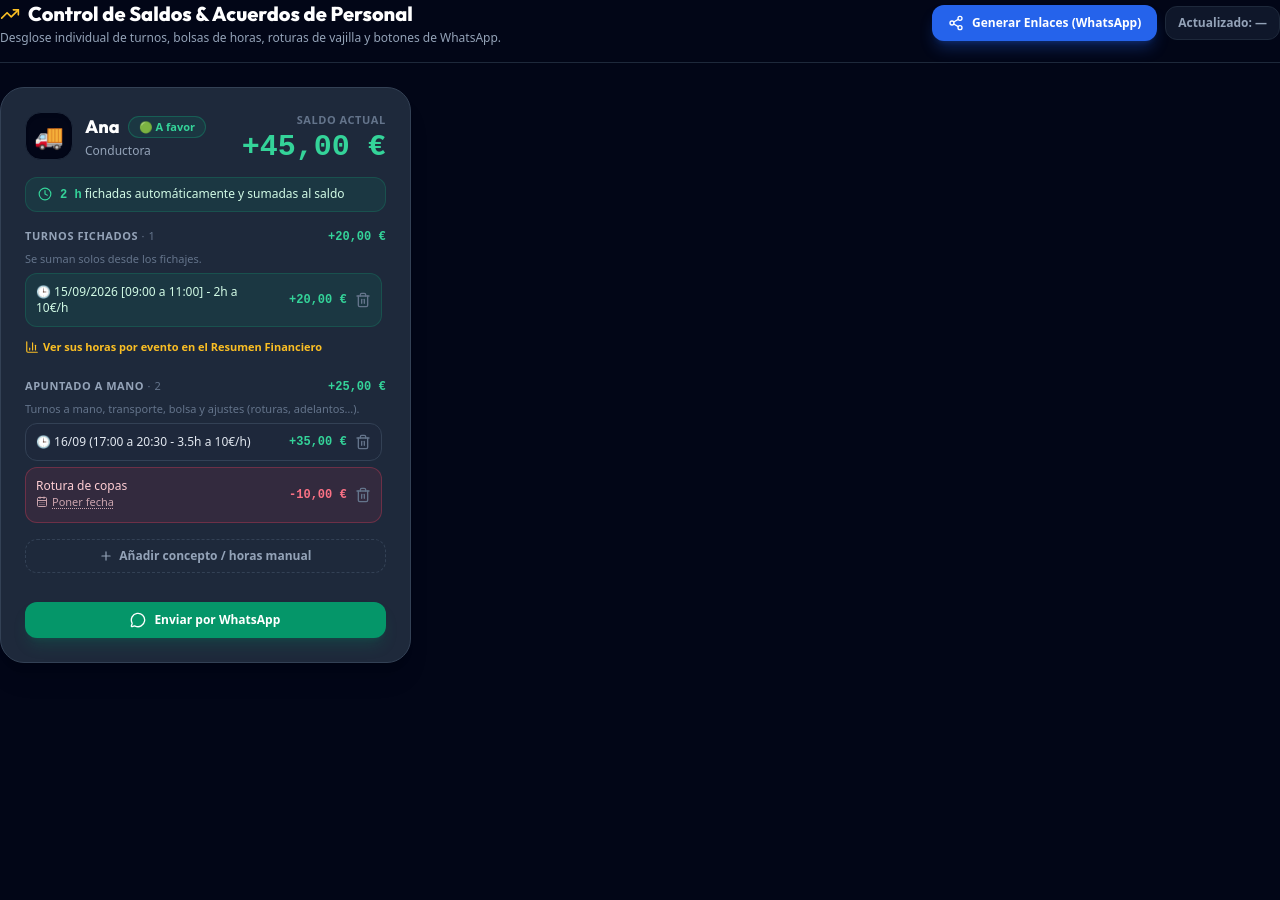
Test: TeamBalancesTab — desglose separado › BUG evitado: borrar un apunte a mano pide confirmación (antes, un toque y fuera); cancelando no se toca nada
The width and height of the screenshot is (1280, 900).
Click the button named "Eliminar concepto manual: Rotura de copas" at (363, 495), box [347,479,379,511]
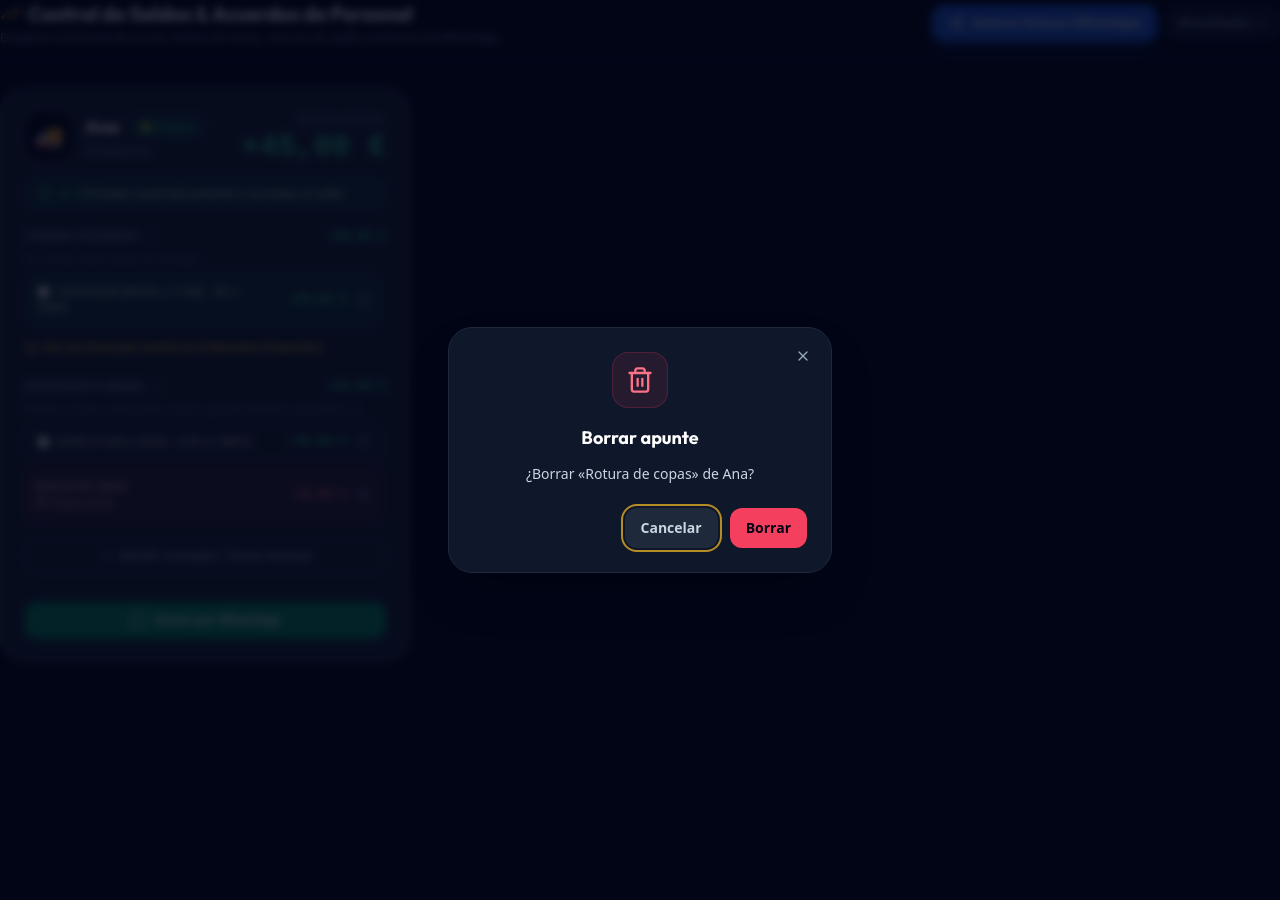
Now the dialog "Borrar apunte" shows "Rotura de copas", box [526,464,754,483]
Click the button "Cancelar" at (671, 528), box [624,508,718,548]
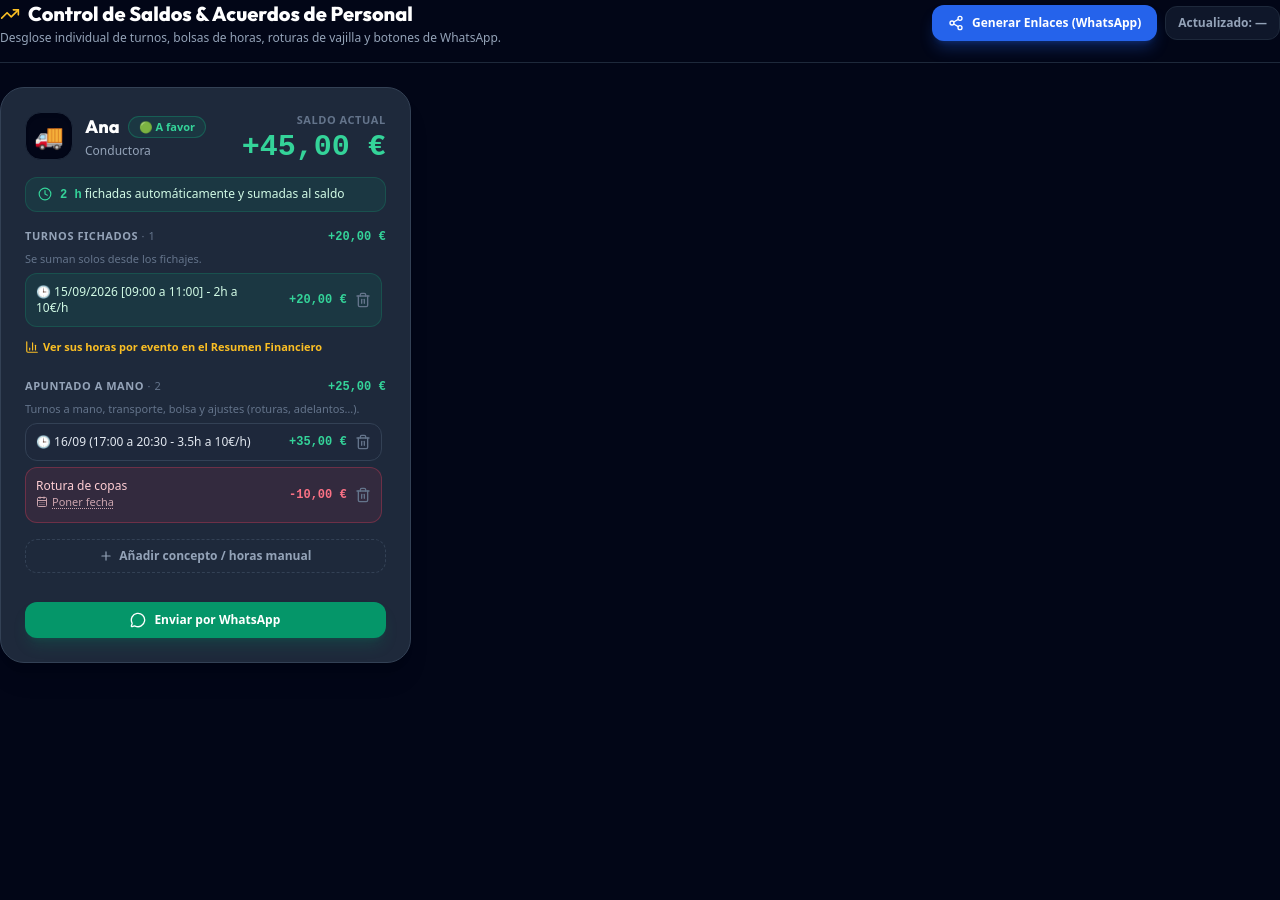
Now the heading "Borrar apunte" is gone
